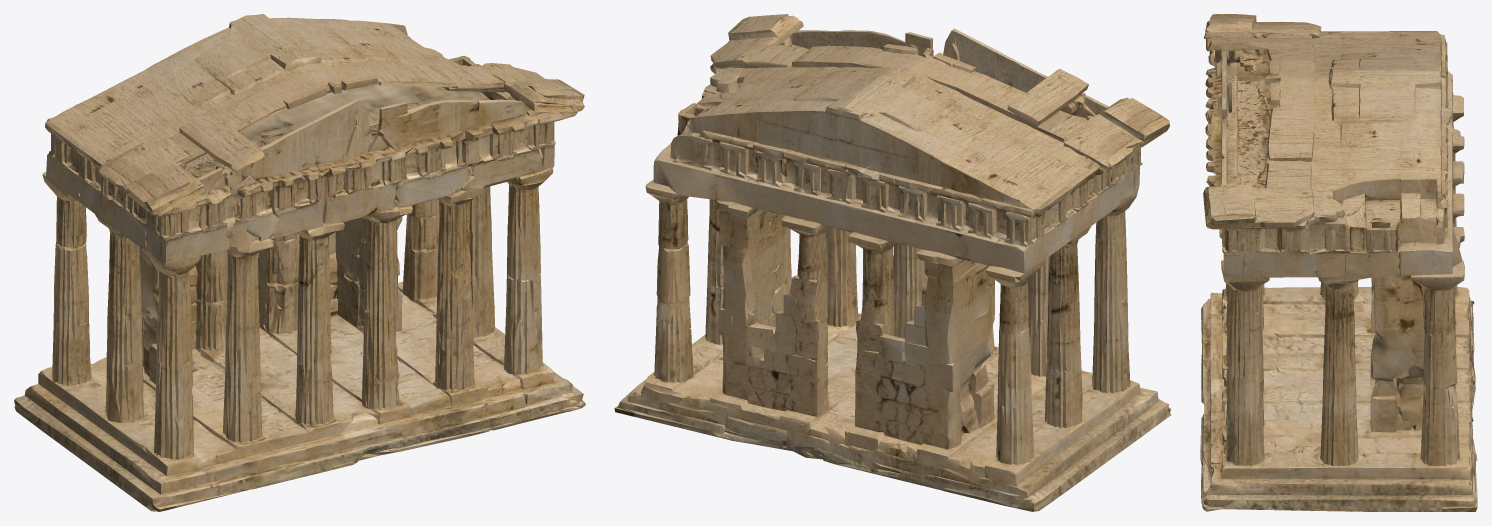
Rendered from tempio.glb.
The picture shows the model from 3 angles, left to right: view 1: azimuth 30°, elevation 25°; view 2: azimuth 150°, elevation 25°; view 3: azimuth 270°, elevation 25°; orthographic projection. The views are drawn at different scales.
Size of the model in its own units: 1.9 by 1.46 by 1.08.
Materials: 1 (1 with a texture image).
